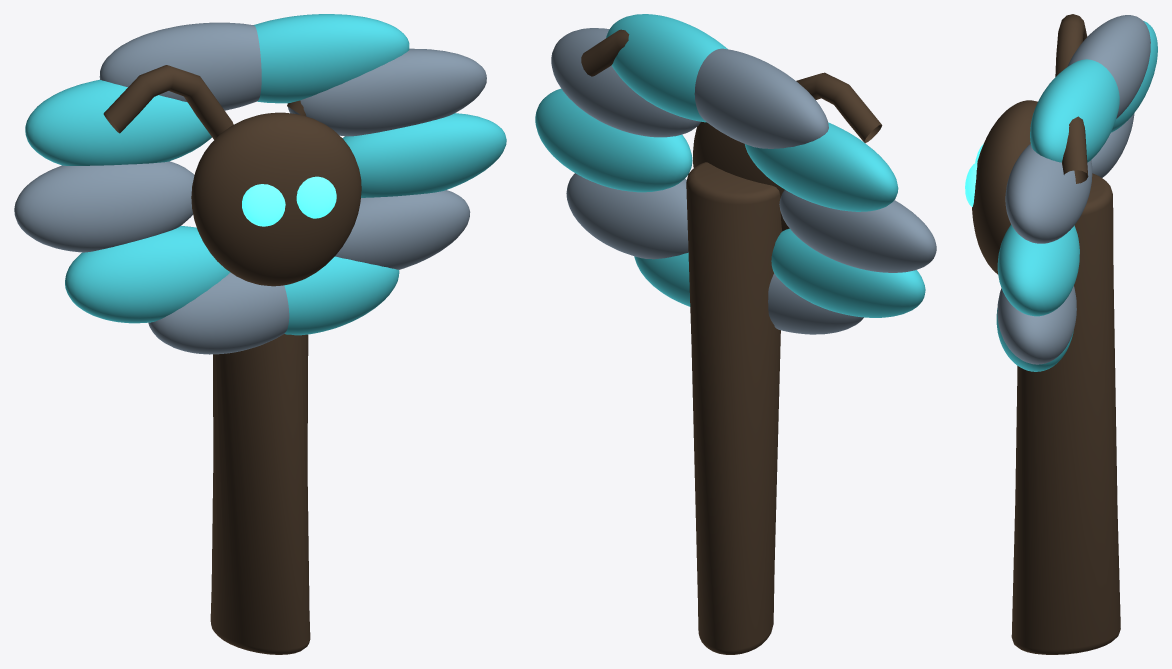
Rendered from plant_v8.glb.
The picture shows the model from 3 angles, left to right: view 1: azimuth 30°, elevation 25°; view 2: azimuth 150°, elevation 25°; view 3: azimuth 270°, elevation 25°; orthographic projection. The views are drawn at different scales.
Parts seen in each view (by area): view 1: FLOWER_STEM_SECONDARY, FLOWER_MAW_SECONDARY, FLOWER_PETAL_PRIMARY.002, FLOWER_PETAL_ACCENT.002, FLOWER_PETAL_ACCENT.003, FLOWER_PETAL_PRIMARY, FLOWER_PETAL_ACCENT.001, FLOWER_PETAL_ACCENT, FLOWER_PETAL_PRIMARY.001, FLOWER_PETAL_PRIMARY.003, FLOWER_PETAL_PRIMARY.004, FLOWER_PETAL_ACCENT.004 (+3 smaller); view 2: FLOWER_STEM_SECONDARY, FLOWER_PETAL_PRIMARY.001, FLOWER_PETAL_ACCENT, FLOWER_PETAL_PRIMARY.002, FLOWER_PETAL_ACCENT.002, FLOWER_PETAL_ACCENT.001, FLOWER_PETAL_ACCENT.003, FLOWER_PETAL_PRIMARY.004, FLOWER_PETAL_PRIMARY, FLOWER_PETAL_PRIMARY.003, FLOWER_MAW_SECONDARY, SWEEP_ANTLER_SECONDARY (+2 smaller); view 3: FLOWER_STEM_SECONDARY, FLOWER_PETAL_ACCENT.001, FLOWER_PETAL_PRIMARY, FLOWER_PETAL_ACCENT, FLOWER_MAW_SECONDARY, FLOWER_PETAL_PRIMARY.001, FLOWER_PETAL_PRIMARY.004, SWEEP_ANTLER_SECONDARY.001, SWEEP_ANTLER_SECONDARY, FLOWER_PETAL_PRIMARY.002, FLOWER_PETAL_ACCENT.002, FLOWER_PETAL_ACCENT.004 (+1 smaller).
Part boxes in pixels (box(x1,y1,x2,y2)): FLOWER_STEM_SECONDARY: box(210, 334, 310, 654); FLOWER_MAW_SECONDARY: box(191, 112, 361, 286); FLOWER_PETAL_PRIMARY.002: box(14, 161, 194, 252); FLOWER_PETAL_ACCENT.002: box(25, 79, 211, 165); FLOWER_PETAL_ACCENT.003: box(65, 226, 230, 323); FLOWER_PETAL_PRIMARY: box(288, 48, 486, 136); FLOWER_PETAL_ACCENT.001: box(253, 14, 409, 103); FLOWER_PETAL_ACCENT: box(342, 113, 506, 197); FLOWER_PETAL_PRIMARY.001: box(99, 22, 261, 110); FLOWER_PETAL_PRIMARY.003: box(148, 272, 289, 354); FLOWER_PETAL_PRIMARY.004: box(335, 190, 470, 269); FLOWER_PETAL_ACCENT.004: box(284, 256, 399, 335); FLOWER_STEM_SECONDARY: box(686, 162, 782, 654); FLOWER_PETAL_PRIMARY.001: box(694, 48, 828, 148); FLOWER_PETAL_ACCENT: box(535, 88, 692, 192); FLOWER_PETAL_PRIMARY.002: box(779, 190, 936, 272); FLOWER_PETAL_ACCENT.002: box(745, 122, 898, 211); FLOWER_PETAL_ACCENT.001: box(606, 14, 727, 122); FLOWER_PETAL_ACCENT.003: box(771, 228, 925, 317); FLOWER_PETAL_PRIMARY.004: box(566, 173, 688, 259); FLOWER_PETAL_PRIMARY: box(551, 28, 700, 137); FLOWER_PETAL_PRIMARY.003: box(768, 273, 863, 334); FLOWER_MAW_SECONDARY: box(693, 122, 789, 231); SWEEP_ANTLER_SECONDARY: box(796, 72, 882, 142); FLOWER_STEM_SECONDARY: box(1011, 173, 1120, 654); FLOWER_PETAL_ACCENT.001: box(1030, 59, 1119, 162); FLOWER_PETAL_PRIMARY: box(1005, 143, 1092, 243); FLOWER_PETAL_ACCENT: box(997, 224, 1079, 316); FLOWER_MAW_SECONDARY: box(972, 100, 1037, 274); FLOWER_PETAL_PRIMARY.001: box(1067, 15, 1150, 118); FLOWER_PETAL_PRIMARY.004: box(997, 286, 1076, 364); SWEEP_ANTLER_SECONDARY.001: box(1062, 116, 1088, 183); SWEEP_ANTLER_SECONDARY: box(1055, 14, 1087, 76); FLOWER_PETAL_PRIMARY.002: box(1091, 113, 1134, 177); FLOWER_PETAL_ACCENT.002: box(1111, 21, 1157, 132); FLOWER_PETAL_ACCENT.004: box(996, 308, 1073, 371).
Size of the model in its own units: 2.16 by 2.82 by 0.8332.
